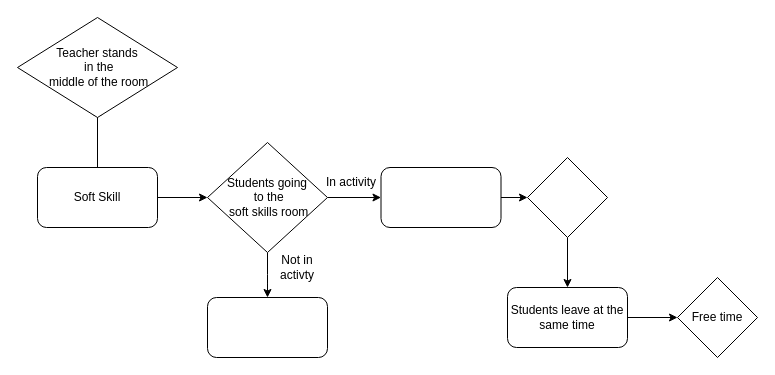
Image size: 775x375. Some labels were removed from this diagram. Here are the shapes that lost their labels. From the top down, the centre of each, then its label:
At pixel 440 197: "Students move erratically around the room".
At pixel 567 197: "Class is over".
At pixel 267 327: "Remaining students stay in a circle".
